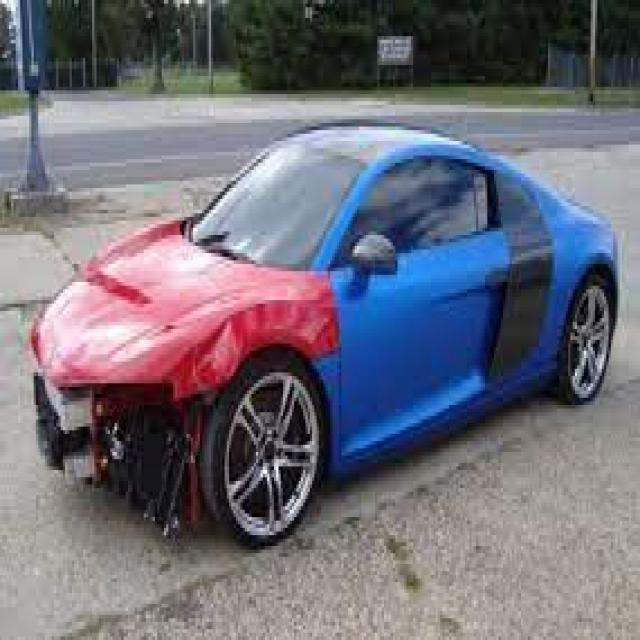severe: (52, 346, 265, 501)
